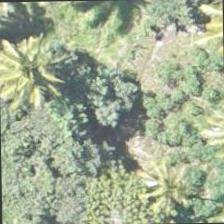Kelapa_Sawit: (122, 130, 214, 222), (0, 21, 75, 113)
